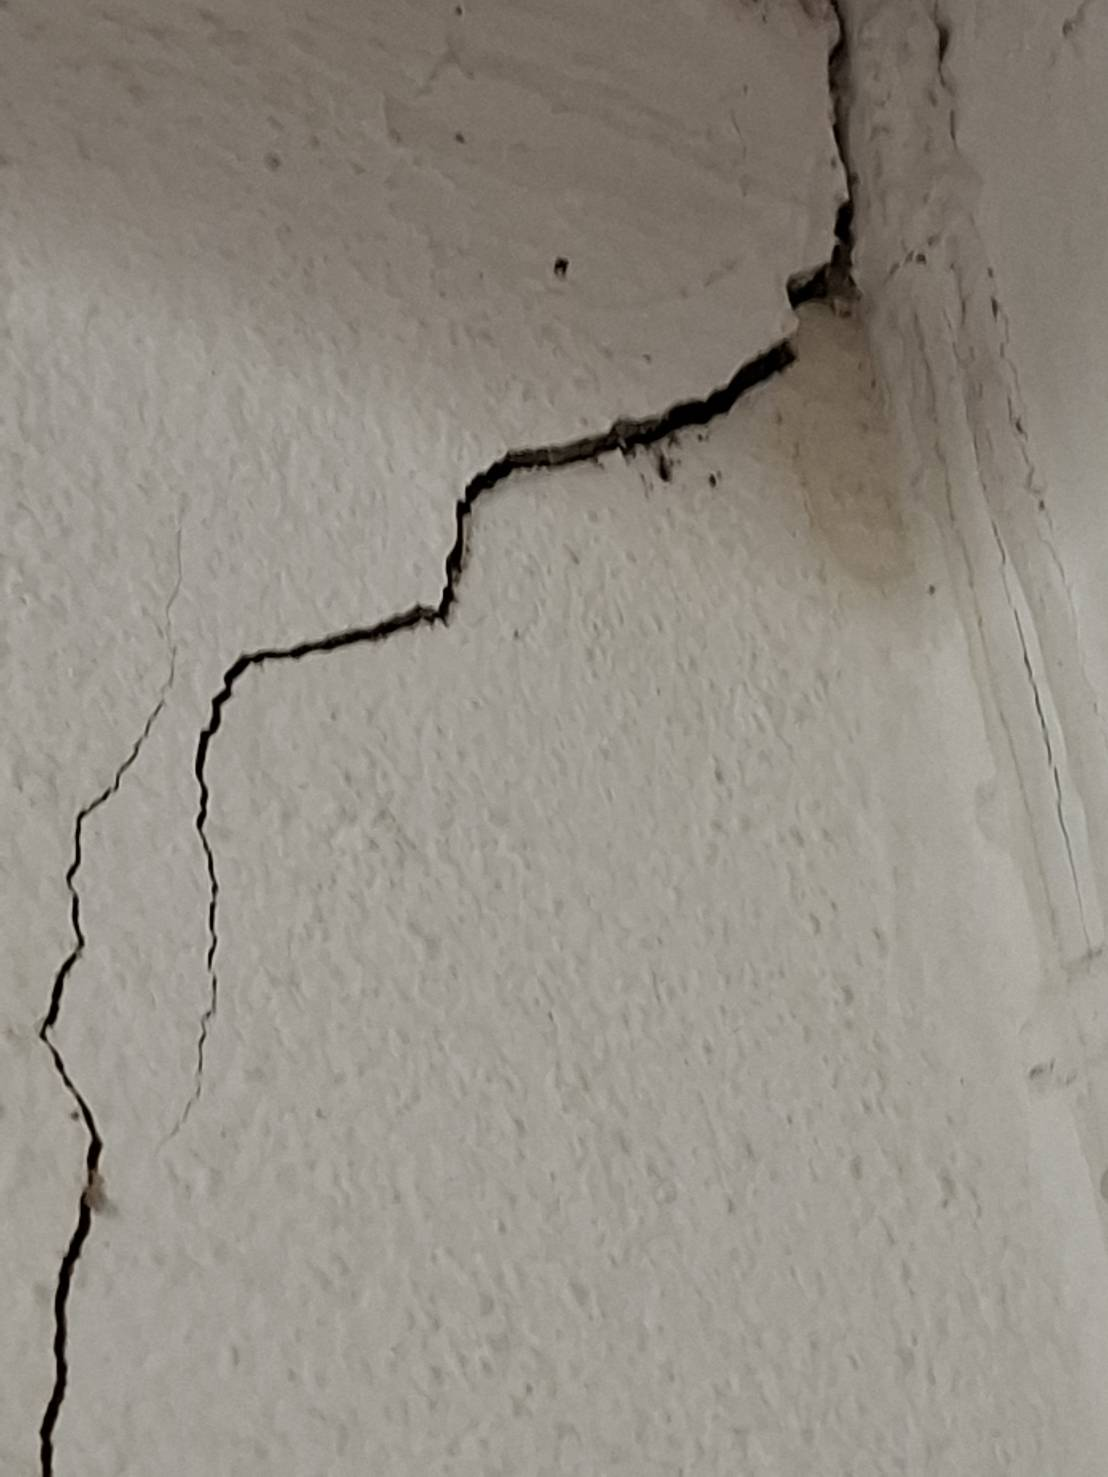High: (13, 6, 878, 1476)
